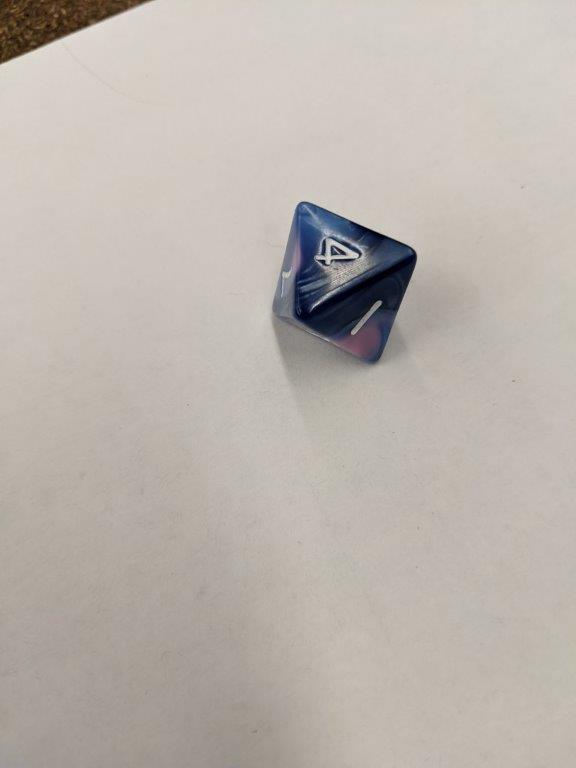d8-4: (271, 201, 418, 367)
